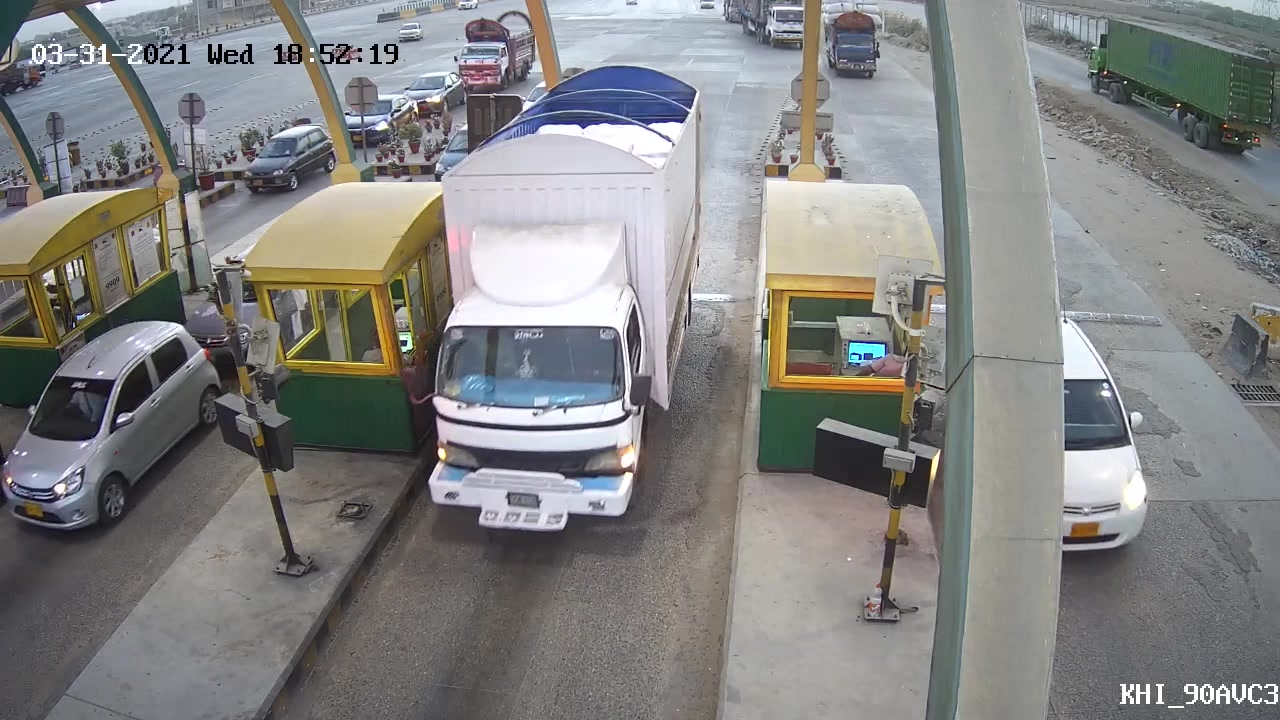F5: (418, 67, 722, 540)
